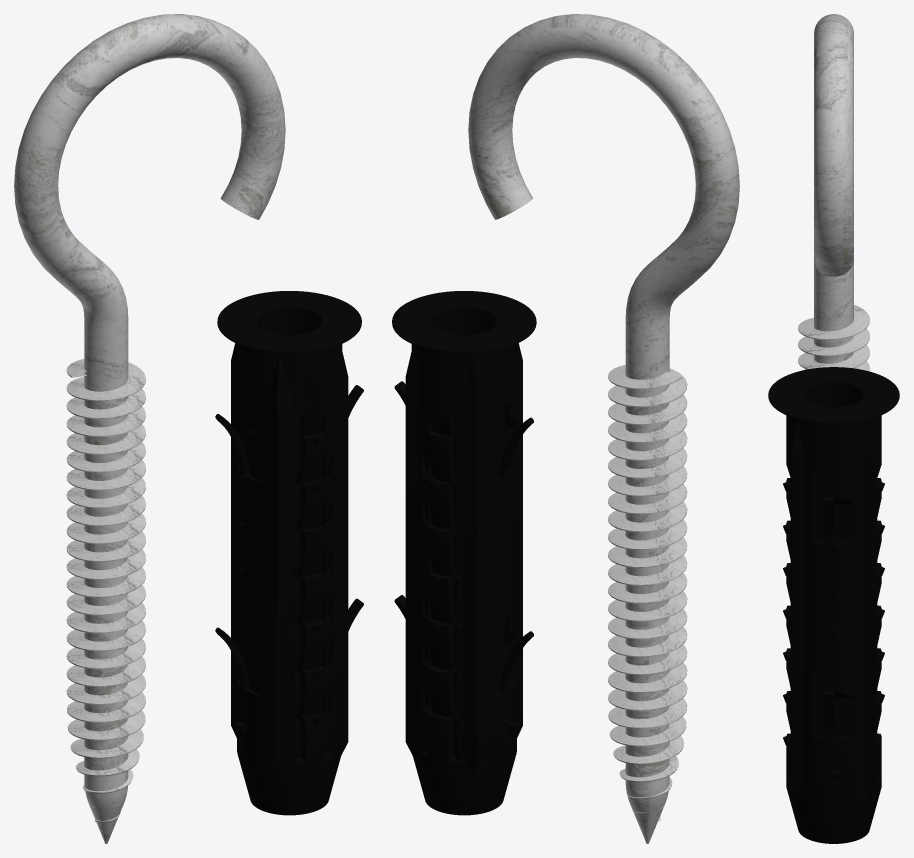
The model's file is KAXN_HS.glb.
3 views of the same model, side by side, from view 1: azimuth 30°, elevation 25°; view 2: azimuth 150°, elevation 25°; view 3: azimuth 270°, elevation 25° (orthographic). The views are drawn at different scales.
Visible parts, largest first — view 1: SCREW_HS, AXN.002; view 2: SCREW_HS, AXN.002; view 3: AXN.002, SCREW_HS.
Part boxes in pixels (x1,y1,x2,y2): SCREW_HS: (14, 14, 285, 843); AXN.002: (215, 291, 363, 815); SCREW_HS: (468, 14, 739, 843); AXN.002: (392, 291, 536, 815); AXN.002: (768, 367, 899, 843); SCREW_HS: (798, 14, 869, 371).
Size of the model in its own units: 0.0301 by 0.0683 by 0.011.
Materials: 2 (2 with a texture image).
